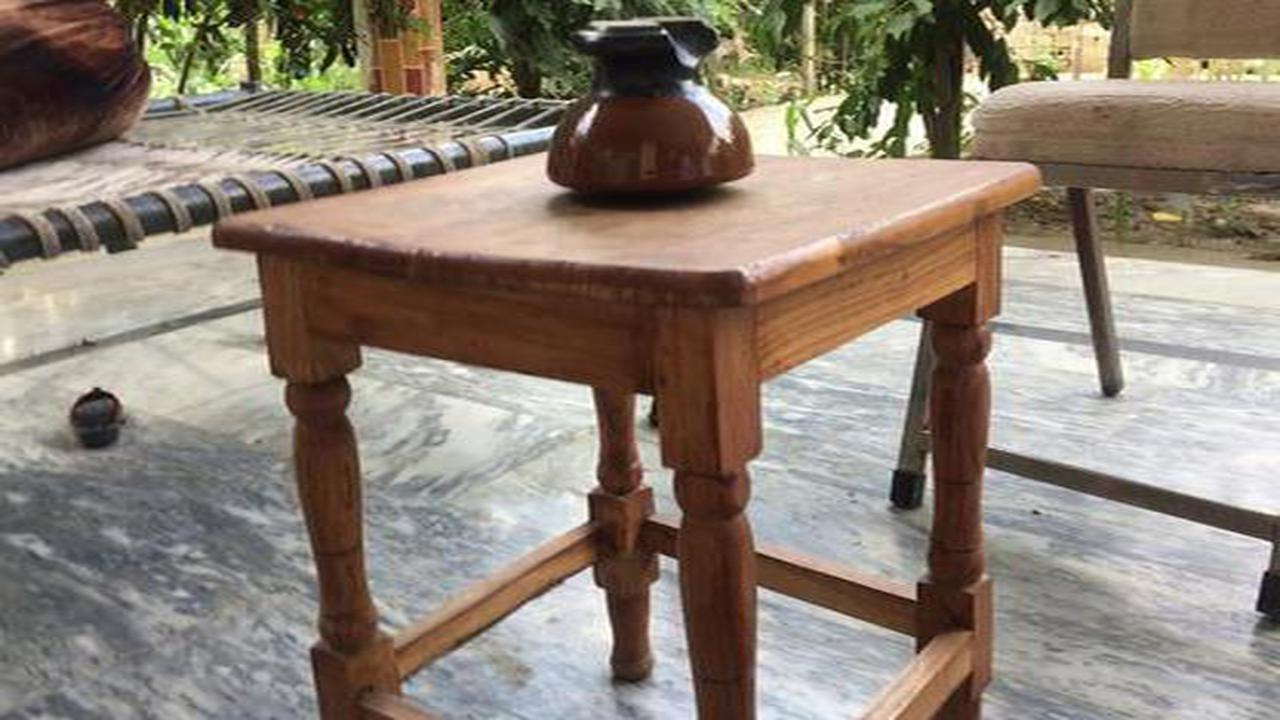insulator_pin: (530, 9, 779, 208)
